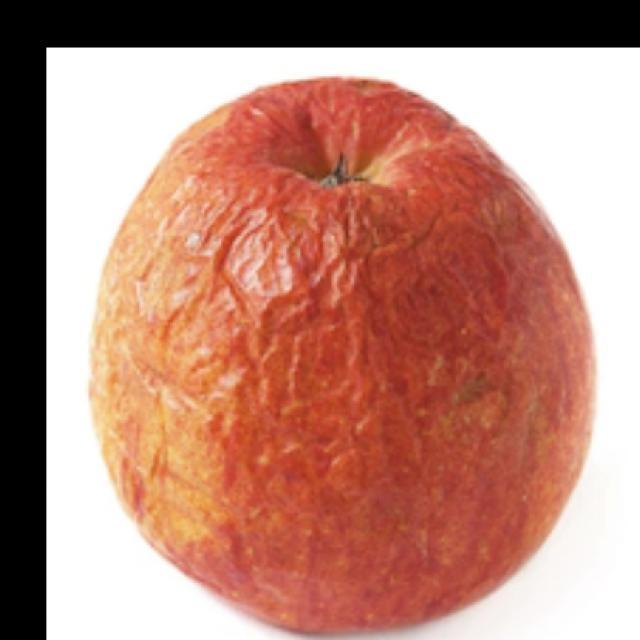Rotten: (88, 85, 597, 640)
